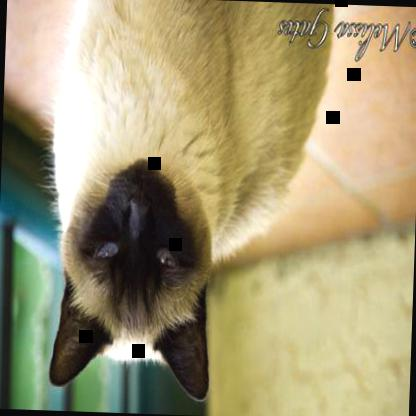cat: (43, 0, 334, 408)
